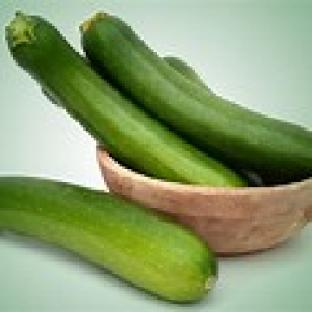Zucchini: (6, 13, 244, 187), (81, 13, 311, 179), (0, 177, 218, 301), (164, 55, 210, 90)
